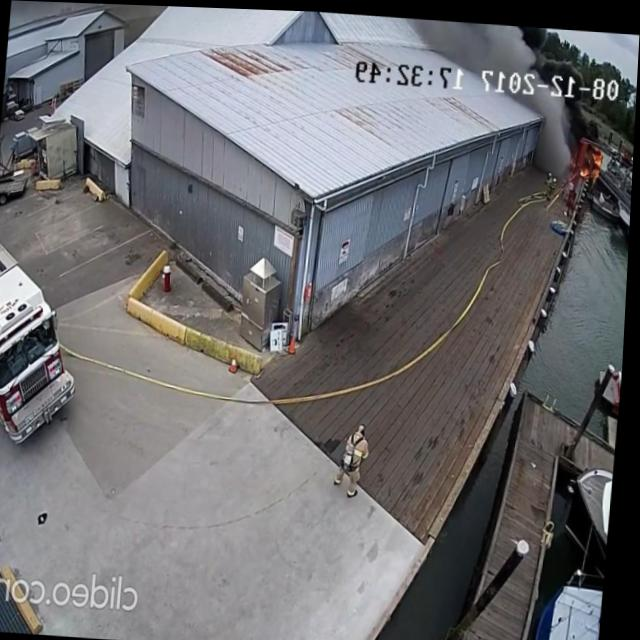fire: (577, 141, 608, 185)
